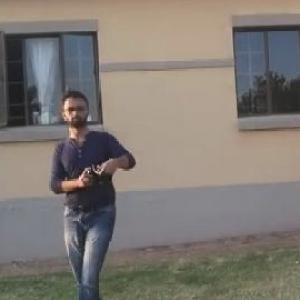follow: (45, 79, 141, 299)
